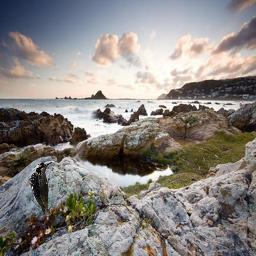Woodpecker: (28, 159, 54, 217)
